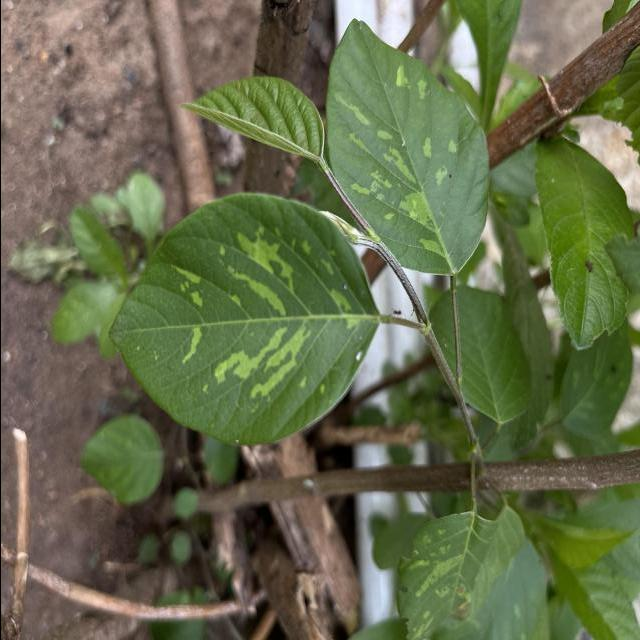Desmodium gangeticum: (322, 12, 492, 278)
